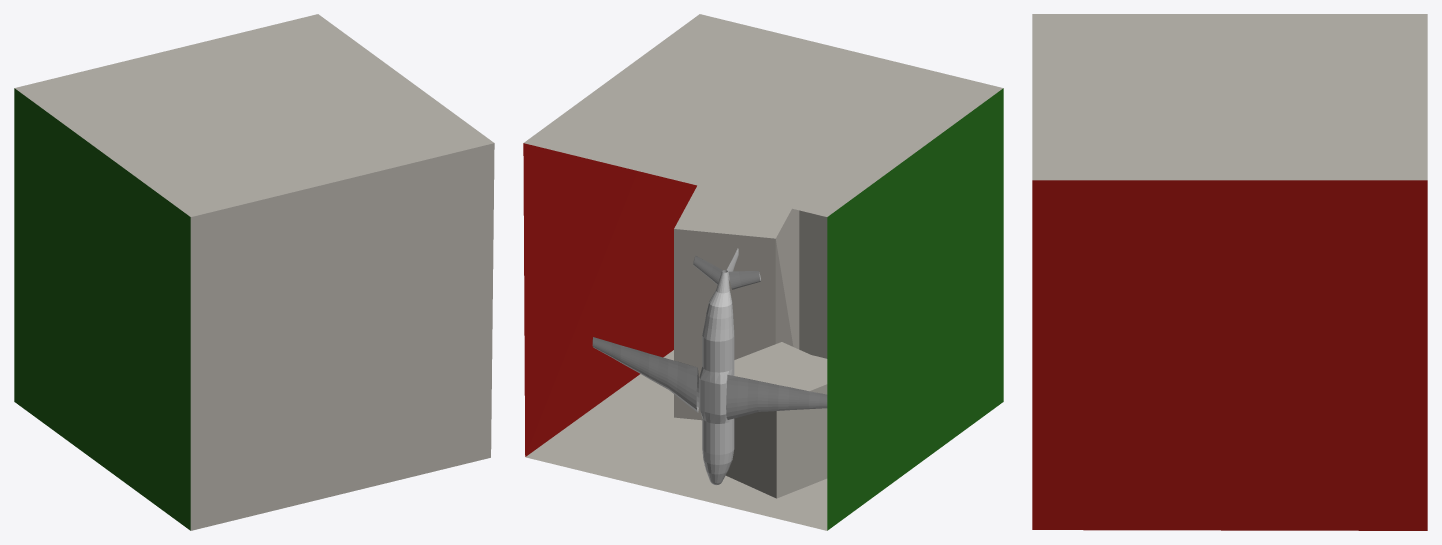
3 renders of one model, left to right at view 1: azimuth 30°, elevation 25°; view 2: azimuth 150°, elevation 25°; view 3: azimuth 270°, elevation 25°, orthographic. The views are drawn at different scales.
Parts seen in each view (by area): view 1: floor, right; view 2: floor, right, left, tallbox, airplane, shortbox; view 3: left, floor.
Boxes of the visible parts, x1=… form: floor: x1=14, y1=14, x2=494, y2=530; right: x1=14, y1=88, x2=190, y2=530; floor: x1=524, y1=14, x2=1003, y2=530; right: x1=827, y1=88, x2=1003, y2=530; left: x1=523, y1=143, x2=696, y2=456; tallbox: x1=674, y1=185, x2=799, y2=420; airplane: x1=592, y1=248, x2=827, y2=485; shortbox: x1=725, y1=342, x2=827, y2=498; left: x1=1032, y1=180, x2=1427, y2=530; floor: x1=1032, y1=14, x2=1427, y2=180.
Bounding box in the file's own units: 556 × 549 × 559.
